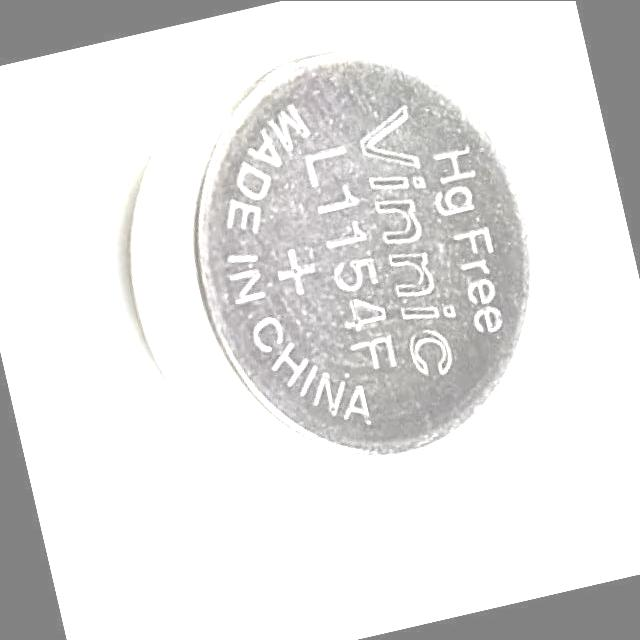COIN: (85, 11, 574, 508)
